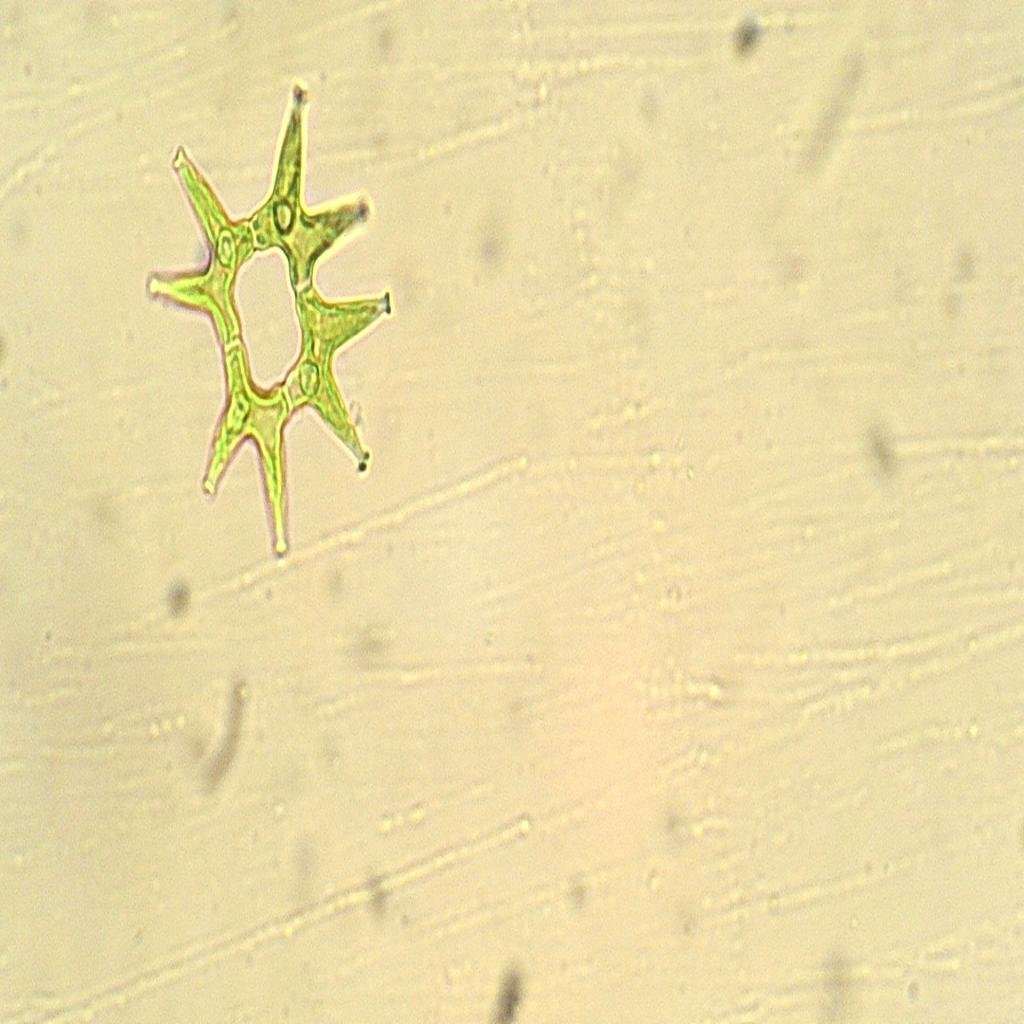Pediastrum_75O: (125, 72, 425, 574)
